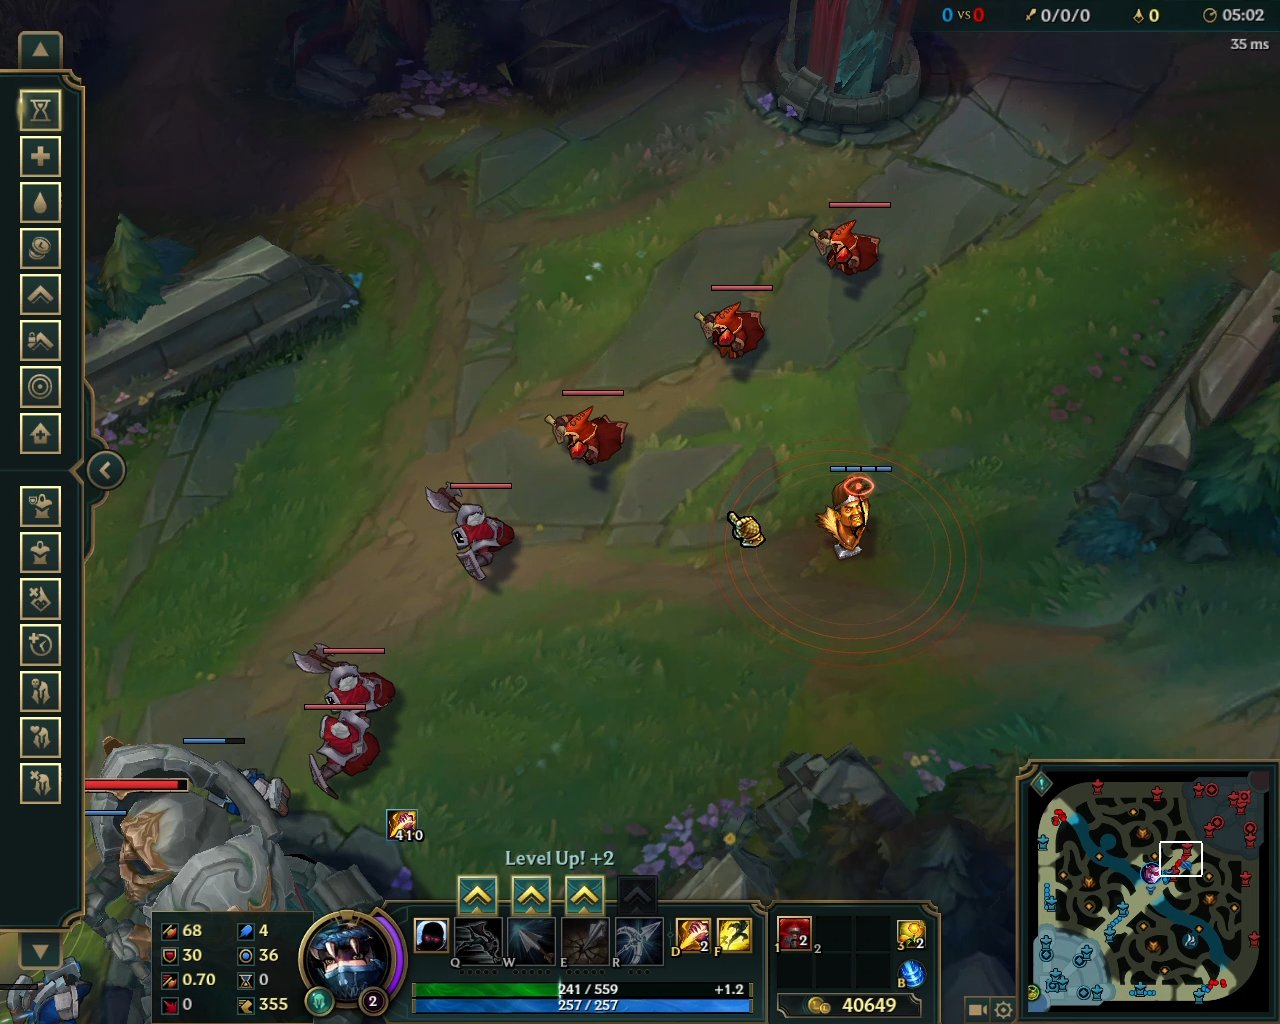EnemyMinion: (419, 483, 518, 585), (293, 645, 399, 718), (802, 202, 894, 281), (546, 385, 629, 470), (690, 285, 774, 364), (308, 703, 375, 800)
